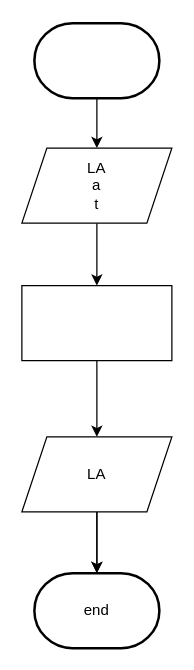
The diagram is 194 pixels wide and 670 high, and some of its shapes have lost their labels. The centre of each missing label's shape, as x and y in pixels:
LA = 1/2 x a x t: the point at 96,322
star: the point at 96,60
